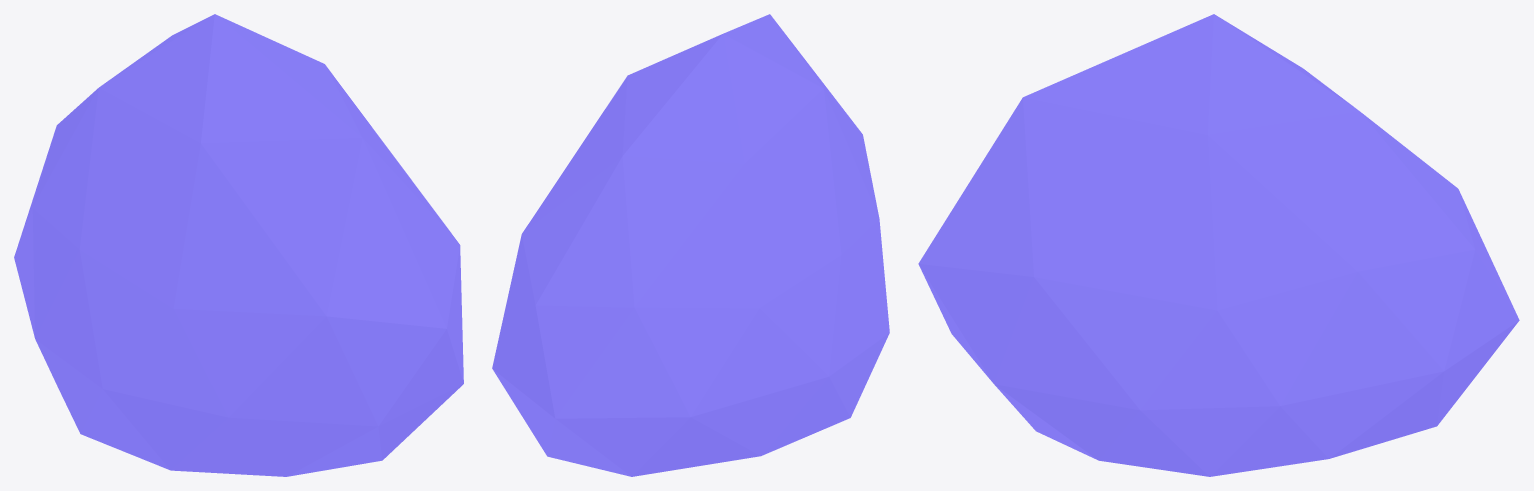
File: rock_type_03.glb
3 renders of one model, left to right at view 1: azimuth 30°, elevation 25°; view 2: azimuth 150°, elevation 25°; view 3: azimuth 270°, elevation 25°, orthographic. The views are drawn at different scales.
Visible parts, largest first — view 1: rock_2; view 2: rock_2; view 3: rock_2.
Part boxes in pixels (left/top/right/bottom): rock_2: left=14, top=14, right=463, bottom=476; rock_2: left=492, top=14, right=889, bottom=476; rock_2: left=918, top=14, right=1519, bottom=476.
Bounding box in the file's own units: 1.9 × 2.07 × 2.96.
